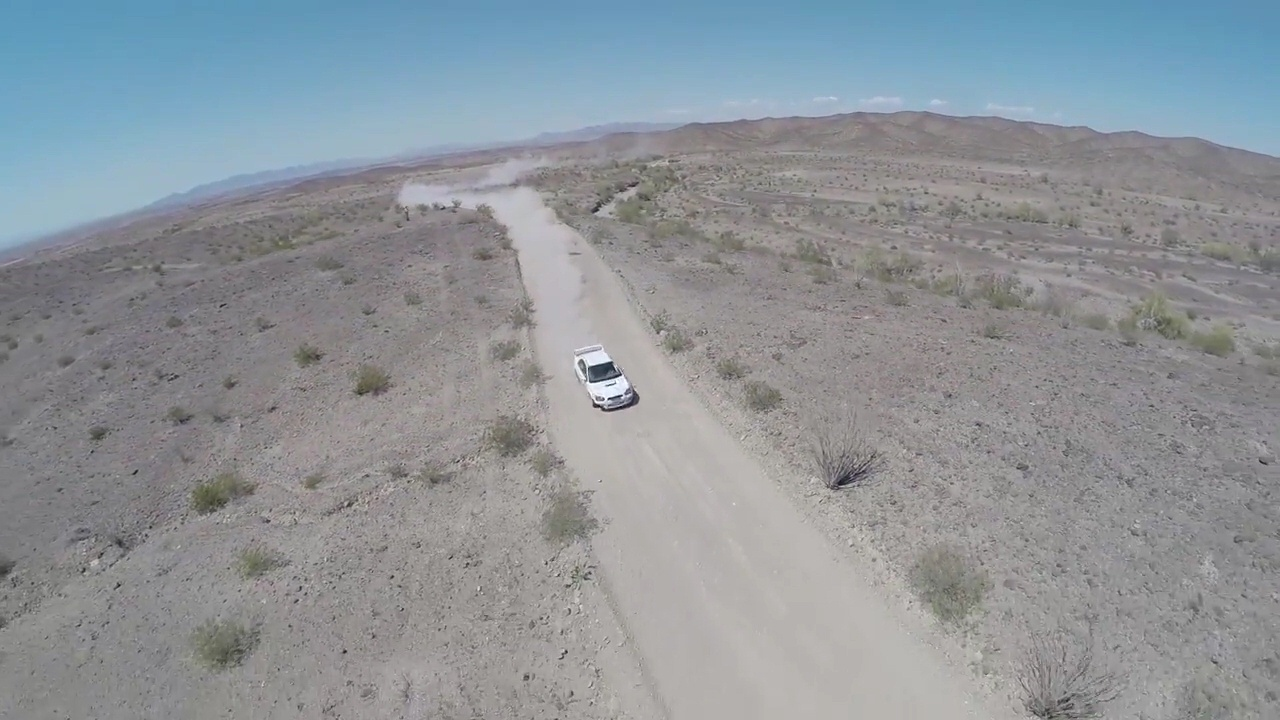araba: (570, 340, 635, 410)
